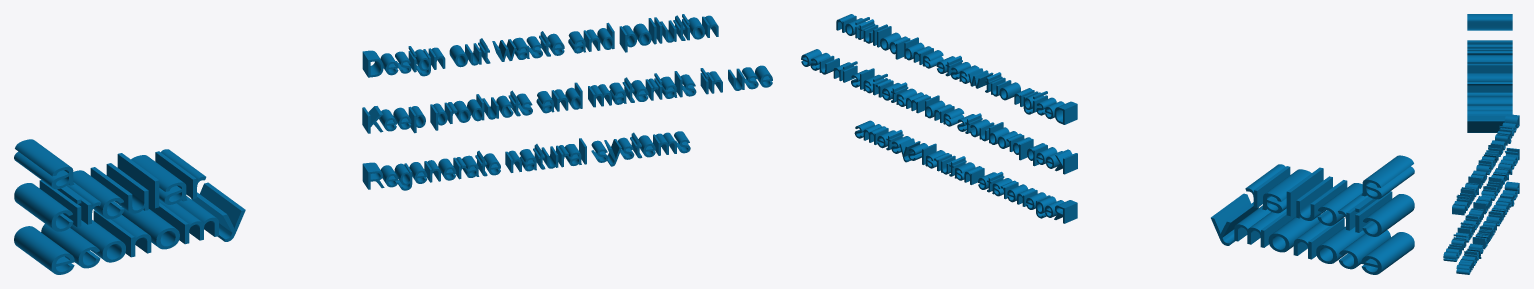
File: CIRCULAR_ECONOMY.fbx
3 renders of one model, left to right at view 1: azimuth 30°, elevation 25°; view 2: azimuth 150°, elevation 25°; view 3: azimuth 270°, elevation 25°, orthographic. The views are drawn at different scales.
Parts seen in each view (by area): view 1: circular economy; view 2: circular economy; view 3: circular economy.
Boxes of the visible parts, <box> form: circular economy: <box>14,14,772,274</box>; circular economy: <box>801,14,1414,274</box>; circular economy: <box>1443,14,1519,274</box>.
Bounding box in the file's own units: 4.18 × 0.649 × 0.7631.
